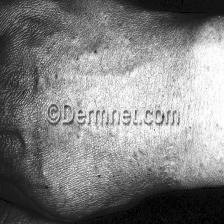Benign Marking or Mole: (30, 61, 156, 88)
